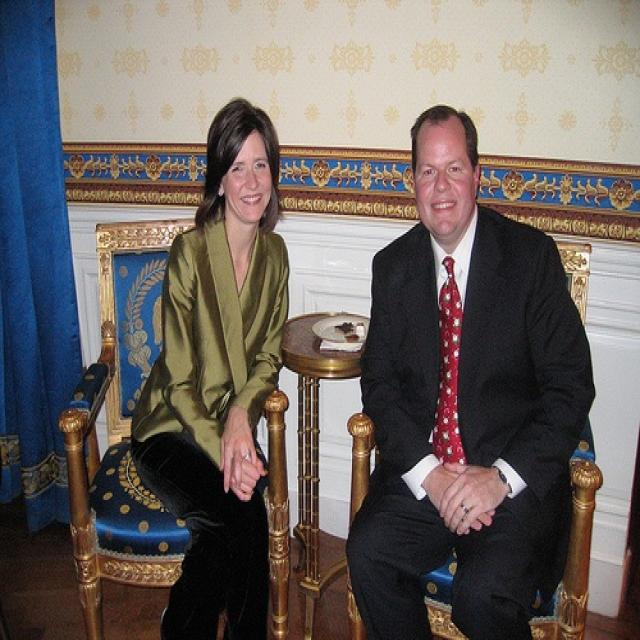chair: (348, 236, 599, 638), (60, 222, 288, 638)
